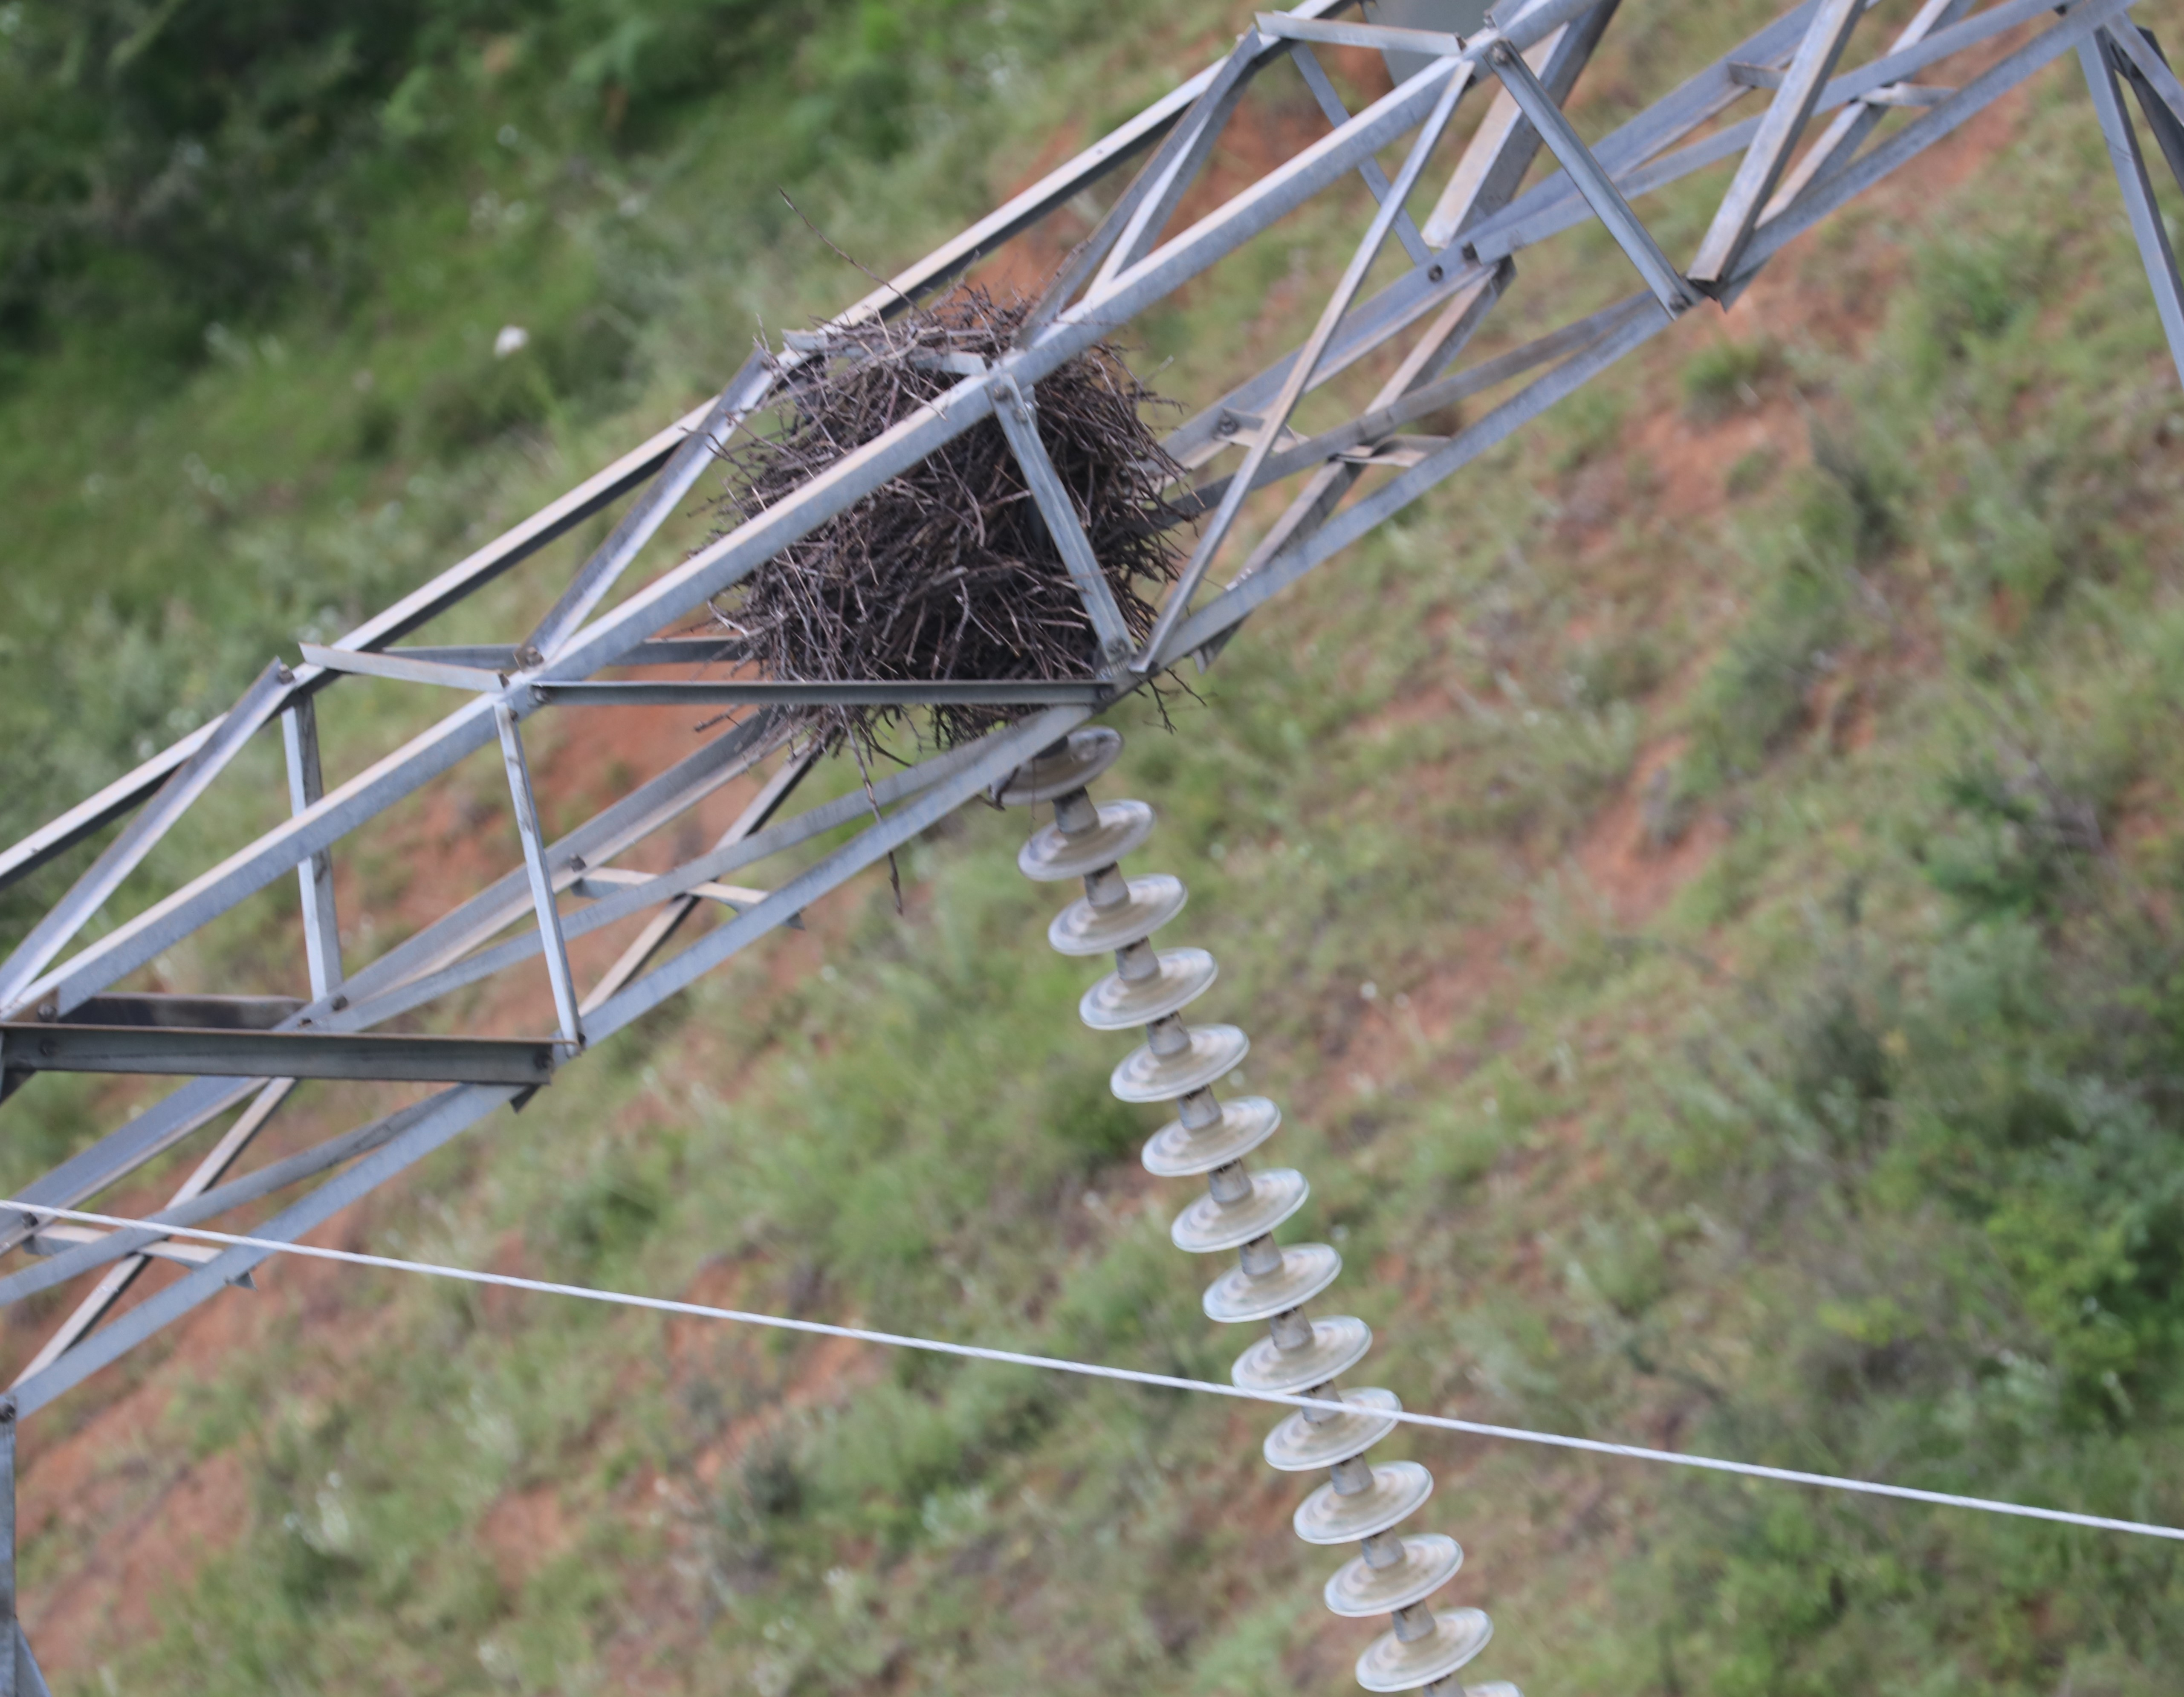niaowo: (628, 277, 1250, 743)
